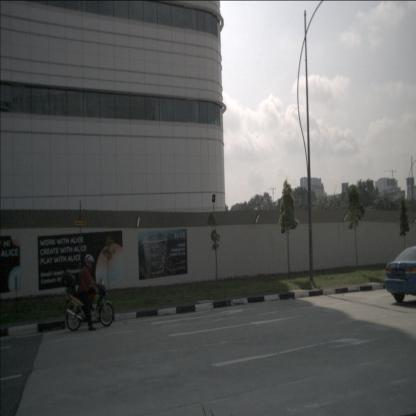vehicle-car: (385, 244, 416, 306)
vehicle-motorcycle: (62, 251, 115, 332)
